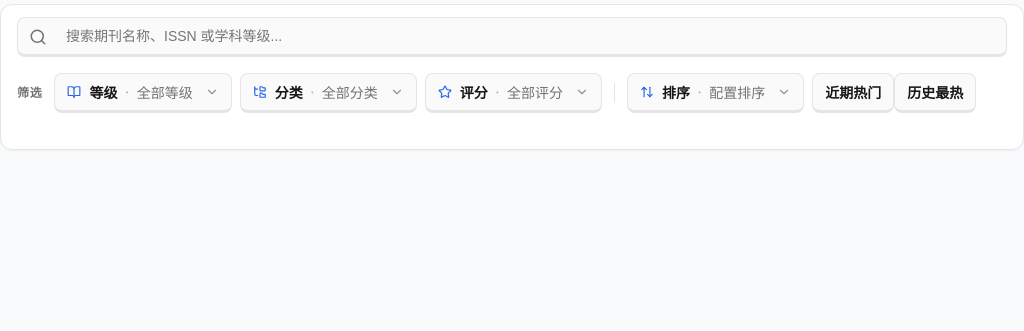
Test: SearchAndFilter › Dropdown interactions › should close dropdown when clicking outside
// Open level dropdown
Click the text "全部等级" at (165, 92), box [137,82,193,102]
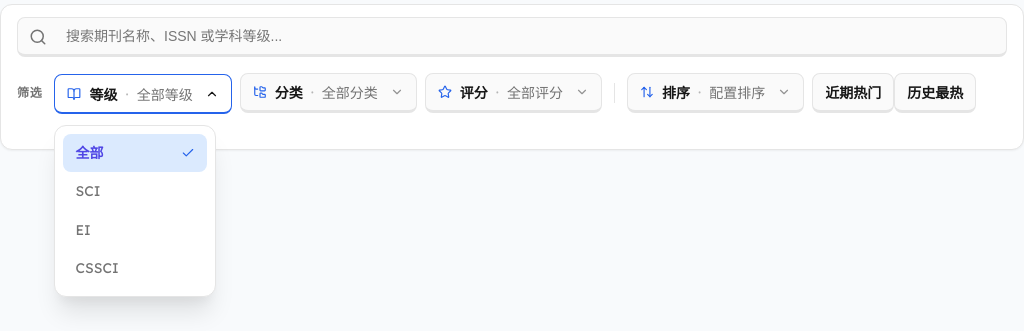
Result: the text "SCI" is shown at [76,180,100,203]
// Click outside
Press the mouse on the element that starts with "全部等级" at (512, 77), box [0,4,1023,150]
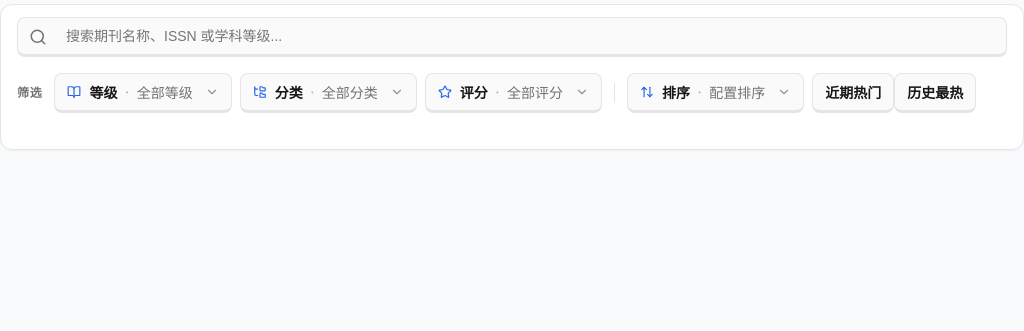
Result: the text "SCI" is gone
